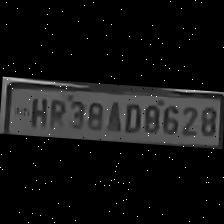2: (177, 103, 198, 136)
3: (64, 96, 86, 129)
6: (157, 101, 178, 135)
8: (84, 97, 106, 130), (140, 100, 160, 134), (197, 102, 217, 135)
A: (104, 98, 122, 132)
D: (120, 98, 142, 133)
H: (26, 94, 48, 128)
R: (46, 94, 66, 128)
